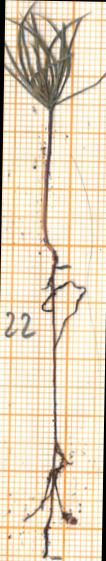flower: (4, 3, 85, 109)
root: (24, 263, 85, 557)
stem: (42, 111, 57, 263)
